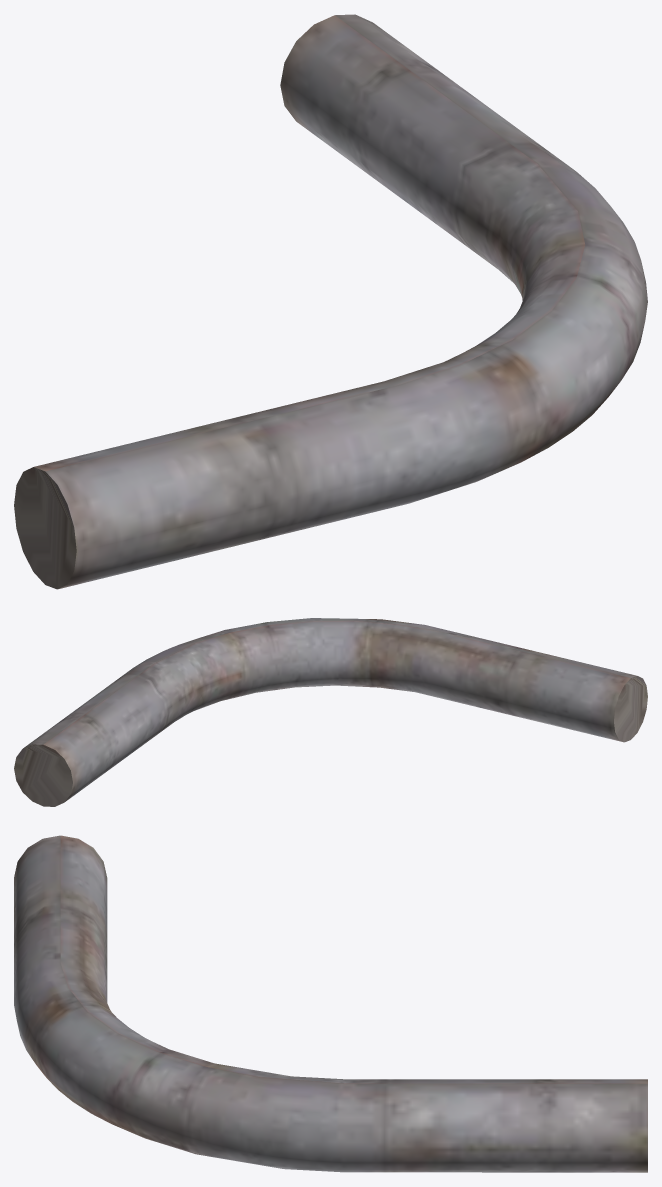
Rendered from pipe_e_crn_150x150.glb.
3 views of the same model, one above another, from view 1: azimuth 30°, elevation 25°; view 2: azimuth 150°, elevation 25°; view 3: azimuth 270°, elevation 25° (orthographic). The views are drawn at different scales.
Visible parts, largest first — view 1: pipe_e_crn_150x150; view 2: pipe_e_crn_150x150; view 3: pipe_e_crn_150x150.
Part boxes in pixels (left/top/right/bottom): pipe_e_crn_150x150: left=14, top=14, right=647, bottom=589; pipe_e_crn_150x150: left=14, top=618, right=647, bottom=806; pipe_e_crn_150x150: left=14, top=835, right=647, bottom=1172.
Size of the model in its own units: 1.62 by 0.2381 by 1.62.
1 material, 1 textured.
